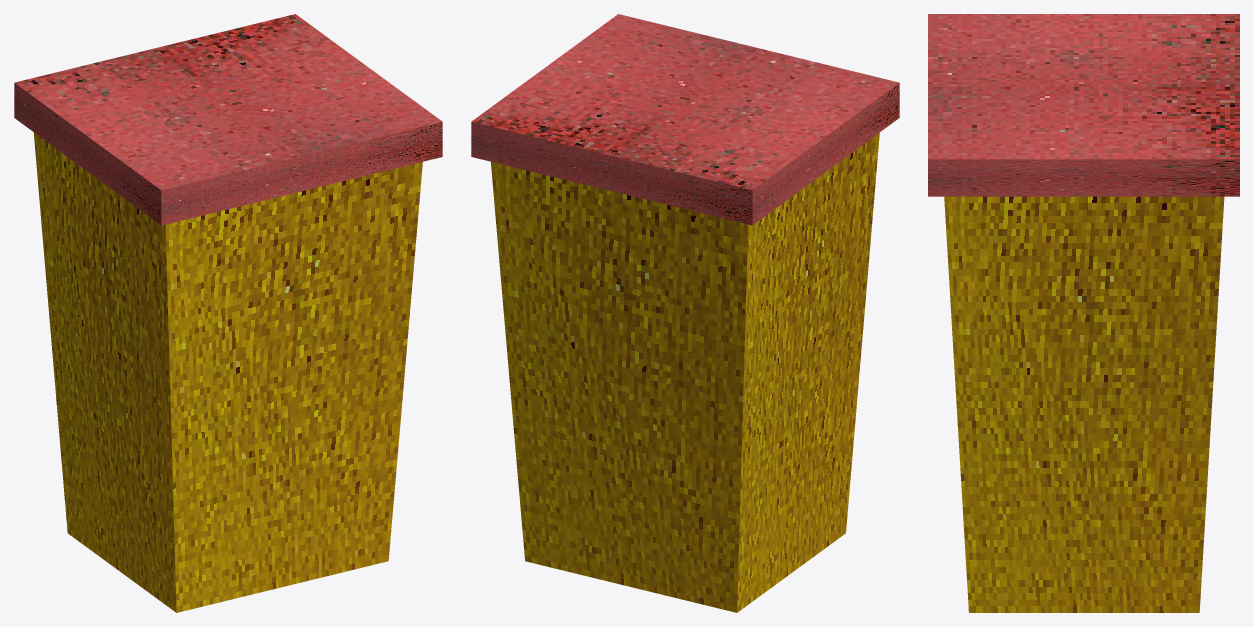
Rendered from bucked.glb.
The picture shows the model from 3 angles, left to right: view 1: azimuth 30°, elevation 25°; view 2: azimuth 150°, elevation 25°; view 3: azimuth 270°, elevation 25°; orthographic projection. The views are drawn at different scales.
Parts seen in each view (by area): view 1: Куб, Куб.001; view 2: Куб, Куб.001; view 3: Куб, Куб.001.
Part boxes in pixels (x1,y1,x2,y2): Куб: [33, 132, 422, 612]; Куб.001: [14, 14, 442, 225]; Куб: [491, 132, 879, 612]; Куб.001: [471, 14, 899, 225]; Куб: [944, 196, 1224, 612]; Куб.001: [928, 14, 1239, 196].
Size of the model in its own units: 20.23 by 30.58 by 18.33.
2 materials, 2 textured.
